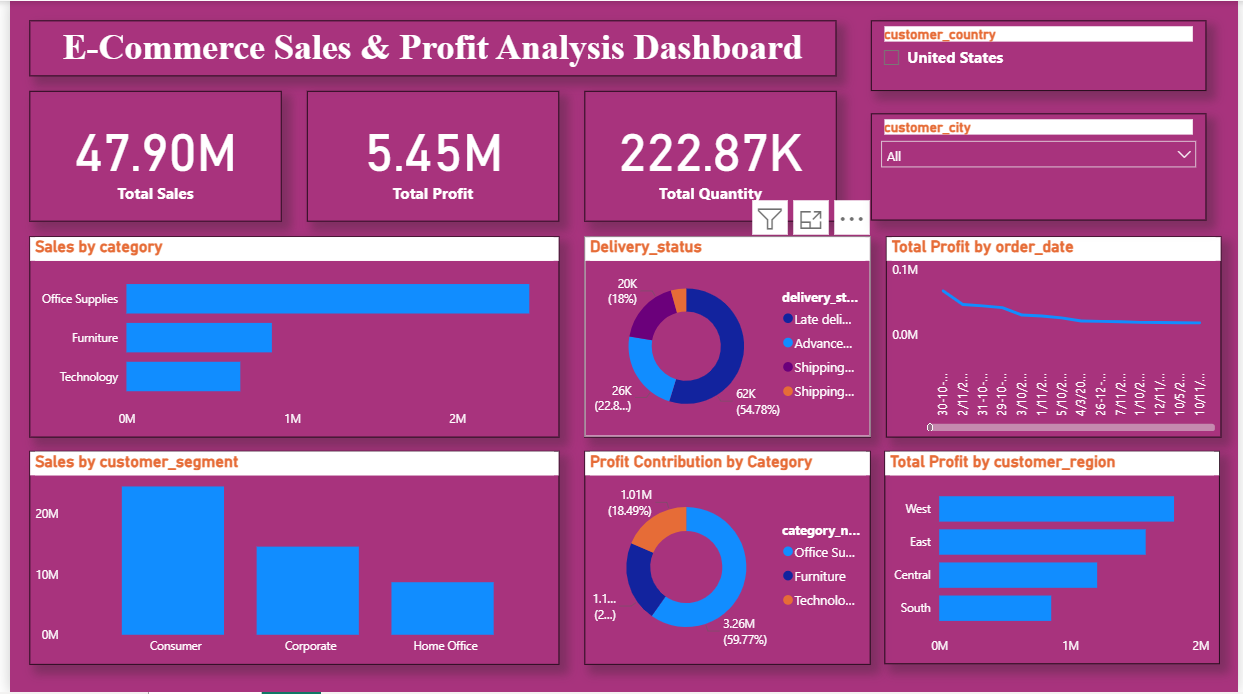

The page's visual inventory and layout, read from the dashboard file:
{"tool":"powerbi","page":{"name":"Page 1","canvas":[1280,720],"ordinal":0},"visuals":[{"type":"textbox","box":[20,20,841,57.8],"z":0},{"type":"card","fields":{"Values":["Ecommerce_data.Total Sales"]},"box":[20,93.4,262.5,135.7],"z":1000},{"type":"card","fields":{"Values":["Ecommerce_data.Total Profit"]},"box":[309.2,93.4,262.5,135.7],"z":2000},{"type":"card","fields":{"Values":["Ecommerce_data.Total Quantity"]},"box":[598.5,93.4,262.5,135.7],"z":3000},{"type":"clusteredBarChart","title":"Sales by category","fields":{"Category":["Ecommerce_data.category_name"],"Y":["Ecommerce_data.Total Sales"]},"box":[20,244.7,551.8,209.1],"z":4000},{"type":"clusteredColumnChart","title":"Sales by customer_segment","fields":{"Category":["Ecommerce_data.customer_segment"],"Y":["Ecommerce_data.Total Sales"]},"box":[20,469.4,551.8,222.5],"z":5000},{"type":"donutChart","title":"Delivery_status","fields":{"Category":["Ecommerce_data.delivery_status"],"Y":["Ecommerce_data.Total Orders"]},"box":[598.5,244.7,298.1,209.1],"z":6000},{"type":"donutChart","title":"Profit Contribution by Category","fields":{"Y":["Ecommerce_data.Total Profit"],"Category":["Ecommerce_data.category_name"]},"box":[598.5,469.4,298.1,222.5],"z":7000},{"type":"lineChart","fields":{"Category":["Ecommerce_data.order_date"],"Y":["Ecommerce_data.Total Profit"]},"box":[912.2,244.7,349.3,209.1],"z":8000},{"type":"clusteredBarChart","fields":{"Category":["Ecommerce_data.customer_region"],"Y":["Ecommerce_data.Total Profit"]},"box":[912,469,349,222],"z":9000},{"type":"slicer","fields":{"Values":["Ecommerce_data.customer_city"]},"box":[896.6,117.9,349.3,111.2],"z":10000},{"type":"slicer","fields":{"Values":["Ecommerce_data.customer_country"]},"box":[896.6,20,349.3,73.4],"z":11000}]}

Visuals, with their boxes in screenshot pixels (x1, y1, x2, y2), scaled from the page's 1280x720 canvas onto the 1243x694 screenshot:
textbox: 19,19,836,75
card - Ecommerce_data.Total Sales: 19,90,274,221
card - Ecommerce_data.Total Profit: 300,90,555,221
card - Ecommerce_data.Total Quantity: 581,90,836,221
"Sales by category" clusteredBarChart: 19,236,555,437
"Sales by customer_segment" clusteredColumnChart: 19,452,555,667
"Delivery_status" donutChart: 581,236,871,437
"Profit Contribution by Category" donutChart: 581,452,871,667
lineChart - Ecommerce_data.order_date x Ecommerce_data.Total Profit: 886,236,1225,437
clusteredBarChart - Ecommerce_data.customer_region x Ecommerce_data.Total Profit: 886,452,1225,666
slicer - Ecommerce_data.customer_city: 871,114,1210,221
slicer - Ecommerce_data.customer_country: 871,19,1210,90
